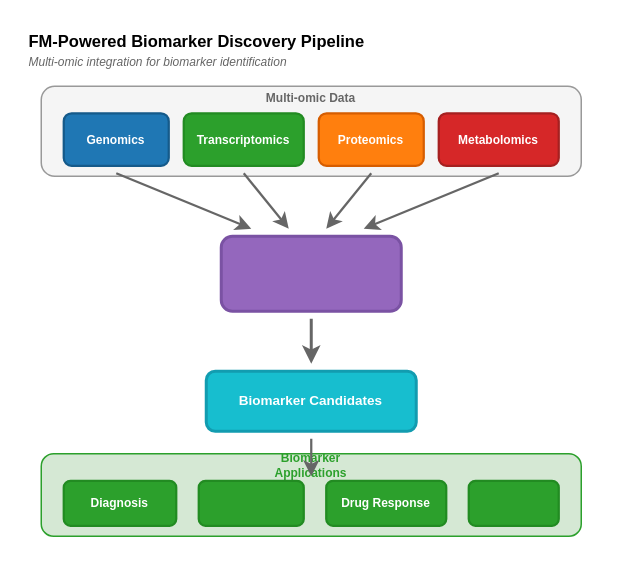
The diagram is 621 pixels wide and 563 high, and some of its shapes have lost their labels. The shapes that lost their labels are listed below. From the top down, each one's centre as x and y in pixels, then its label:
At (310,273): "Foundation Model Integration Layer".
At (250,502): "Prognosis".
At (513,502): "Stratification".
